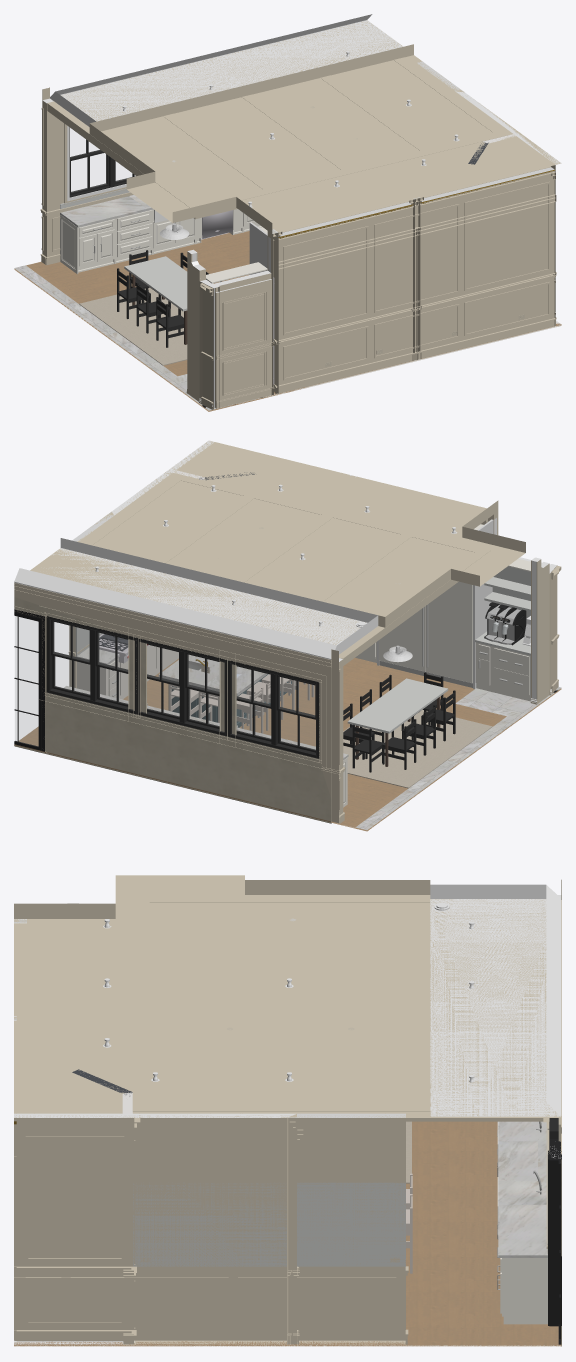
The model's file is kitchen-eedb90f3af20.glb.
3 views of the same model, one above another, from view 1: azimuth 30°, elevation 25°; view 2: azimuth 150°, elevation 25°; view 3: azimuth 270°, elevation 25° (orthographic). The views are drawn at different scales.
Visible parts, largest first — view 1: kitchen-2575515a05775d9e, kitchen-19647d6da46c2b80, kitchen-9a0e9ee9b2a451d7, kitchen-49bdd6945a2d0056, kitchen-00be813e6aece0ee, kitchen-3b0077416469e01b, kitchen-7dfe2ffe68edc988, kitchen-75351331e76db762, kitchen-09be6e6cfc36f29e, kitchen-bfb9fa537cd11d1d, kitchen-7b4bbba8a9d390c7, kitchen-5f1778ec544bdf42 (+29 smaller); view 2: kitchen-2575515a05775d9e, kitchen-bfb9fa537cd11d1d, kitchen-49bdd6945a2d0056, kitchen-3b0077416469e01b, kitchen-9a0e9ee9b2a451d7, kitchen-09be6e6cfc36f29e, kitchen-7dfe2ffe68edc988, kitchen-9b21a9be80c3a49b, kitchen-465517ab3404164a, kitchen-75351331e76db762, kitchen-576146411195f884, kitchen-32fc8eea516b7cb3 (+31 smaller); view 3: kitchen-2575515a05775d9e, kitchen-5b6bbac285e58726, kitchen-9a0e9ee9b2a451d7, kitchen-3b0077416469e01b, kitchen-49bdd6945a2d0056, kitchen-4554d8252f00ac44, kitchen-6a1144f4e43410bb, kitchen-99336d62df756830, kitchen-515b4f710c0d82a8, kitchen-4b4793188d7158f3, kitchen-47c334bbf0372127, kitchen-e54d813e60c9e7c4 (+20 smaller).
Boxes of the visible parts, x1,y1,x2,y2 form: kitchen-2575515a05775d9e: (89,44,560,233); kitchen-19647d6da46c2b80: (278,167,554,385); kitchen-9a0e9ee9b2a451d7: (50,20,403,126); kitchen-49bdd6945a2d0056: (50,14,402,126); kitchen-00be813e6aece0ee: (215,279,271,408); kitchen-3b0077416469e01b: (14,231,561,411); kitchen-7dfe2ffe68edc988: (117,250,221,347); kitchen-75351331e76db762: (79,287,187,365); kitchen-09be6e6cfc36f29e: (67,126,135,201); kitchen-bfb9fa537cd11d1d: (42,98,63,256); kitchen-7b4bbba8a9d390c7: (277,318,556,393); kitchen-5f1778ec544bdf42: (277,194,556,269); kitchen-2575515a05775d9e: (77,441,525,627); kitchen-bfb9fa537cd11d1d: (14,583,343,821); kitchen-49bdd6945a2d0056: (14,538,378,659); kitchen-3b0077416469e01b: (14,658,561,831); kitchen-9a0e9ee9b2a451d7: (14,548,378,659); kitchen-09be6e6cfc36f29e: (228,660,319,758); kitchen-7dfe2ffe68edc988: (343,672,455,772); kitchen-9b21a9be80c3a49b: (46,616,137,714); kitchen-465517ab3404164a: (136,637,227,736); kitchen-75351331e76db762: (343,709,492,788); kitchen-576146411195f884: (14,609,44,751); kitchen-32fc8eea516b7cb3: (426,581,472,683); kitchen-2575515a05775d9e: (14,875,430,1117); kitchen-5b6bbac285e58726: (134,1113,296,1344); kitchen-9a0e9ee9b2a451d7: (430,899,560,1117); kitchen-3b0077416469e01b: (14,1121,561,1346); kitchen-49bdd6945a2d0056: (430,884,561,1116); kitchen-4554d8252f00ac44: (133,1182,405,1270); kitchen-6a1144f4e43410bb: (14,1113,134,1344); kitchen-99336d62df756830: (297,1113,405,1344); kitchen-515b4f710c0d82a8: (27,1121,122,1329); kitchen-4b4793188d7158f3: (498,1121,547,1257); kitchen-47c334bbf0372127: (132,895,149,1111); kitchen-e54d813e60c9e7c4: (14,1124,405,1133).
Size of the model in its own units: 6.87 by 3.24 by 6.56.
52 materials, 10 textured.
